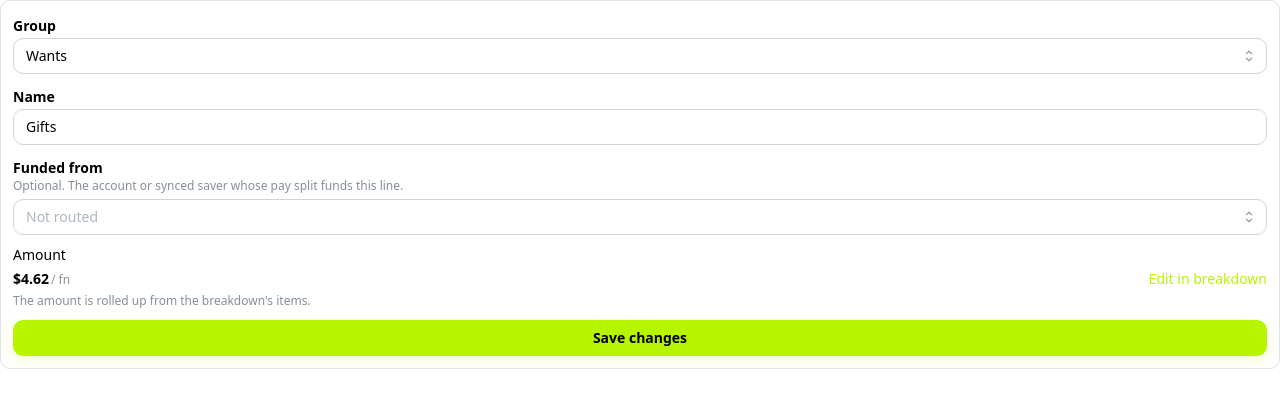
Scenario: DerivedBudgetLineForm › shows an error when the save fails
Click the button "Save changes" at (640, 338), box [13, 320, 1267, 356]
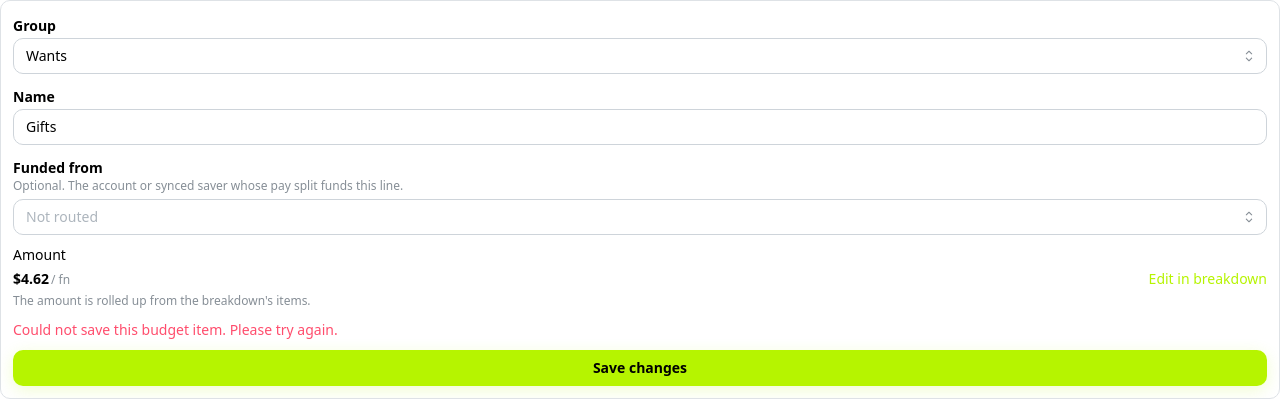
Expected: the button "Save changes" is enabled, [13, 350, 1267, 386]
Now the message shows "Could not save this budget item", box [13, 320, 338, 339]
